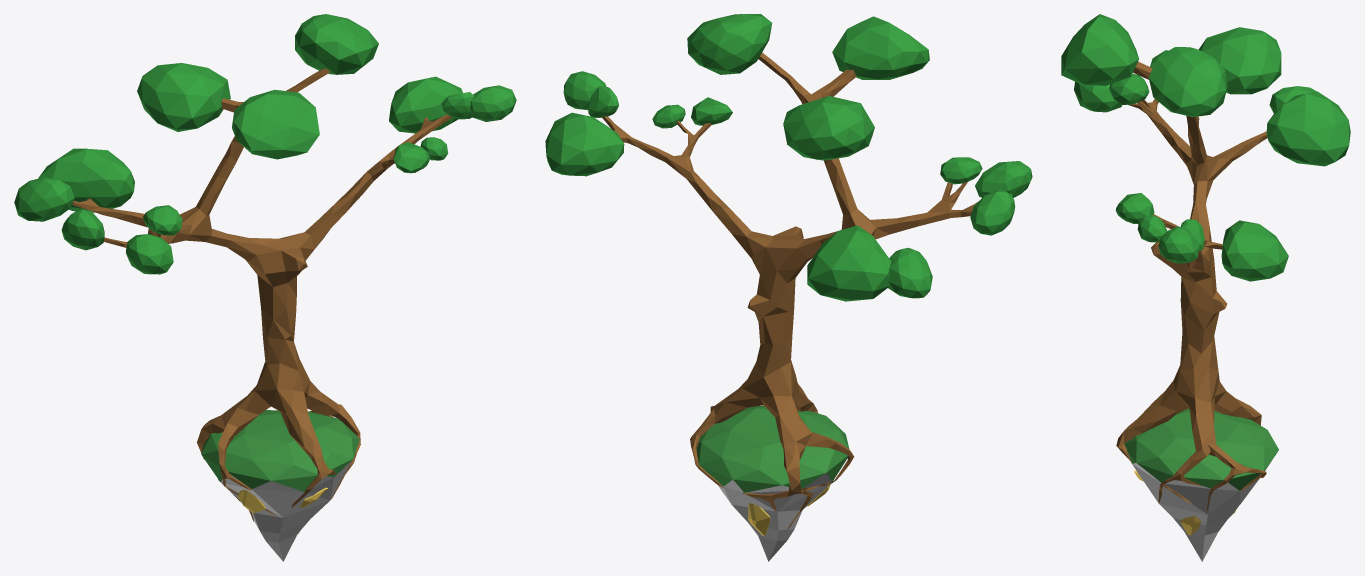
File: island tree.fbx
3 views of the same model, side by side, from view 1: azimuth 30°, elevation 25°; view 2: azimuth 150°, elevation 25°; view 3: azimuth 270°, elevation 25° (orthographic). The views are drawn at different scales.
Visible parts, largest first — view 1: Leaves, Tree, Island, Stones; view 2: Leaves, Tree, Island, Stones; view 3: Leaves, Tree, Island, Stones.
Boxes of the visible parts, left/top/right/bottom form: Leaves: left=14, top=14, right=516, bottom=274; Tree: left=72, top=68, right=452, bottom=521; Island: left=201, top=410, right=359, bottom=491; Stones: left=221, top=459, right=352, bottom=561; Leaves: left=545, top=14, right=1032, bottom=301; Tree: left=602, top=52, right=978, bottom=530; Island: left=696, top=405, right=849, bottom=492; Stones: left=718, top=473, right=831, bottom=561; Leaves: left=1061, top=14, right=1350, bottom=281; Tree: left=1116, top=61, right=1267, bottom=510; Island: left=1124, top=408, right=1278, bottom=490; Stones: left=1132, top=463, right=1259, bottom=561.
Size of the model in its own units: 149 by 170 by 84.64.
